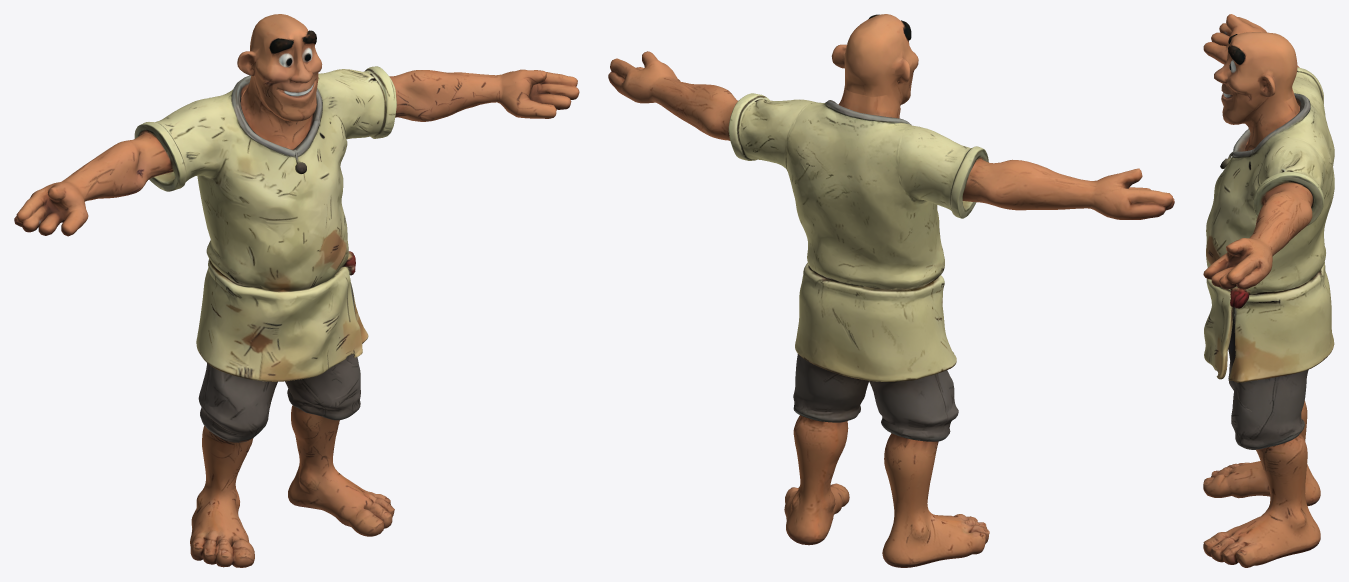
The model's file is gravy_the_innkeeper.glb.
3 views of the same model, side by side, from view 1: azimuth 30°, elevation 25°; view 2: azimuth 150°, elevation 25°; view 3: azimuth 270°, elevation 25° (orthographic). The views are drawn at different scales.
Visible parts, largest first — view 1: gravy_the_innkeeper; view 2: gravy_the_innkeeper; view 3: gravy_the_innkeeper.
Part boxes in pixels (x1,y1,x2,y2): gravy_the_innkeeper: (14,14,579,567); gravy_the_innkeeper: (608,14,1174,567); gravy_the_innkeeper: (1203,14,1334,567).
Size of the model in its own units: 1.99 by 1.75 by 0.4234.
1 material, 1 textured.
